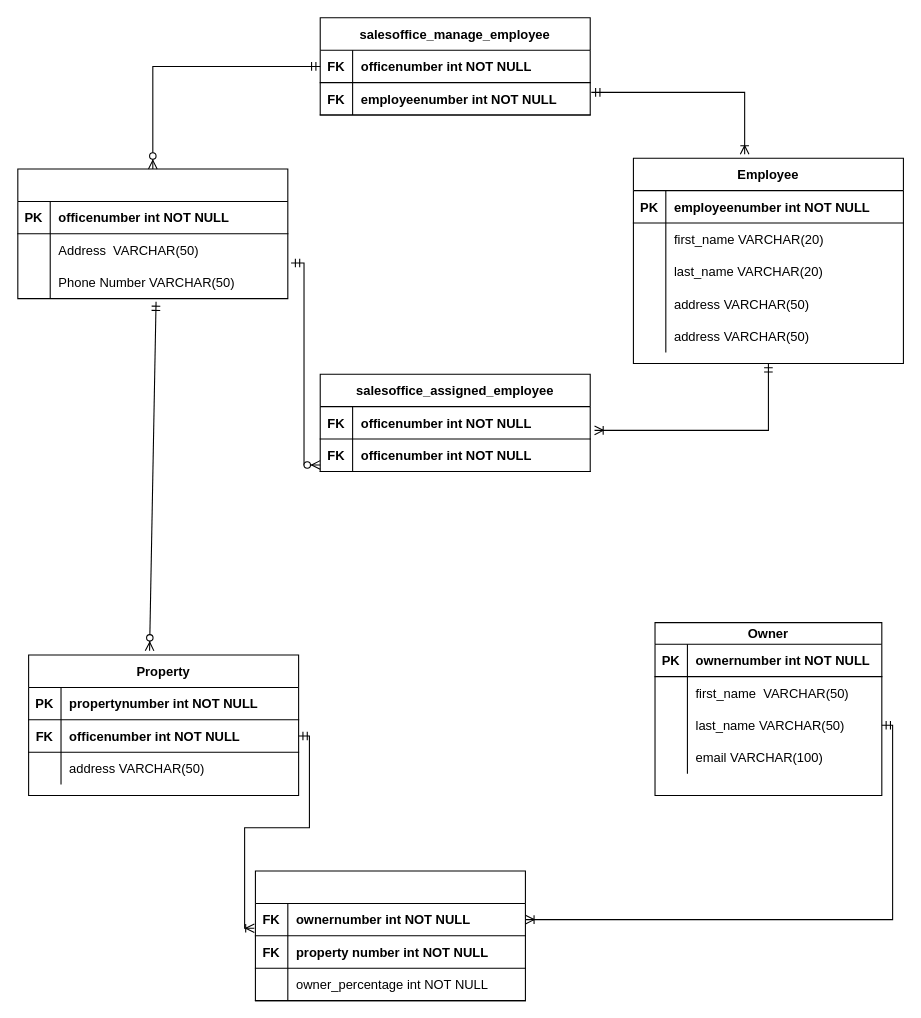
This 921x1018 diagram has some shape labels left out. Each missing label, with the box of its shape:
PropertyOwner: (254, 870, 525, 1001)
Salesoffice: (17, 168, 288, 299)
